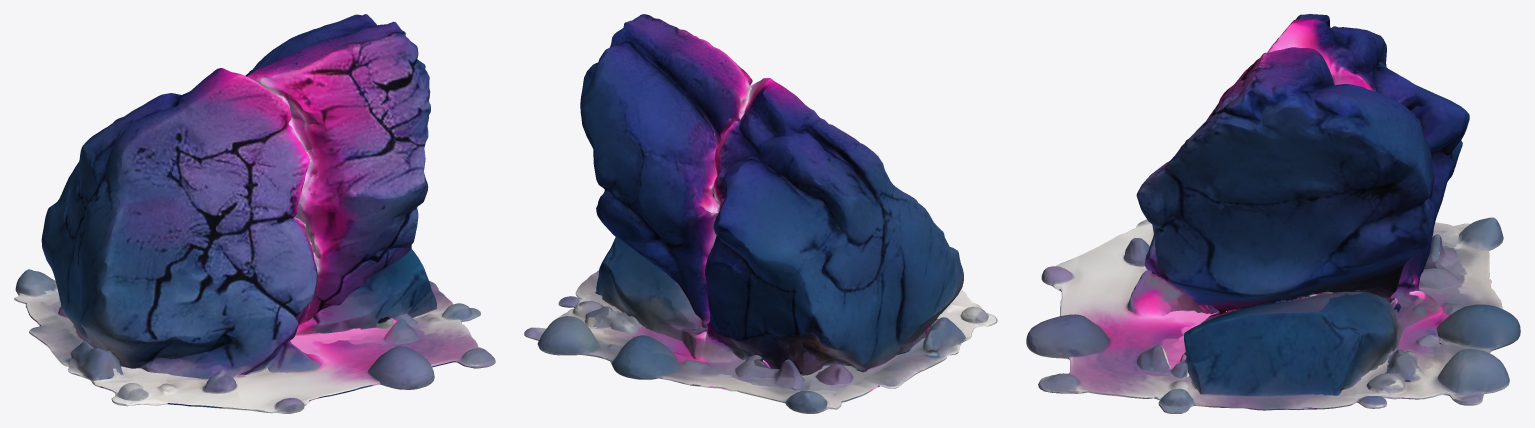
The model's file is shore-stone-7-generated-2026-05-17T20-10-40-578Z.medium.glb.
3 views of the same model, side by side, from view 1: azimuth 30°, elevation 25°; view 2: azimuth 150°, elevation 25°; view 3: azimuth 270°, elevation 25° (orthographic). The views are drawn at different scales.
Visible parts, largest first — view 1: temp_mesh.ply; view 2: temp_mesh.ply; view 3: temp_mesh.ply.
Part boxes in pixels (<box>): temp_mesh.ply: <box>14,14,495,413</box>; temp_mesh.ply: <box>524,14,997,413</box>; temp_mesh.ply: <box>1026,14,1520,413</box>.
Size of the model in its own units: 1.97 by 1.36 by 1.97.
1 material, 1 textured.
